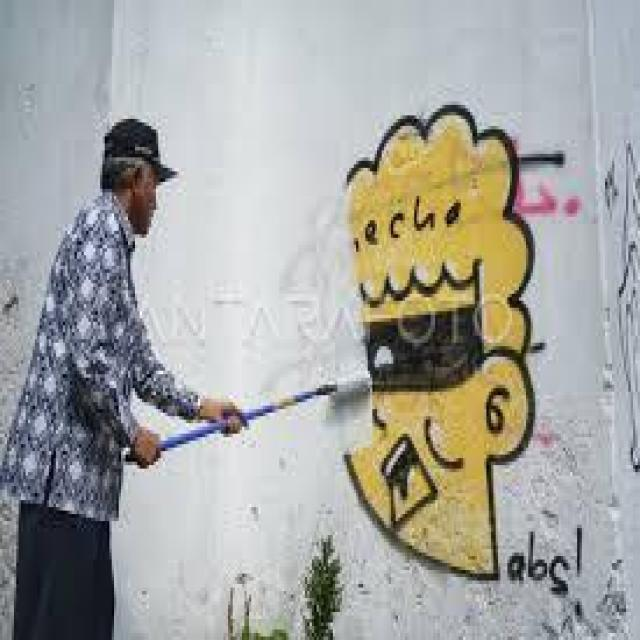nonspitting: (342, 101, 586, 625)
